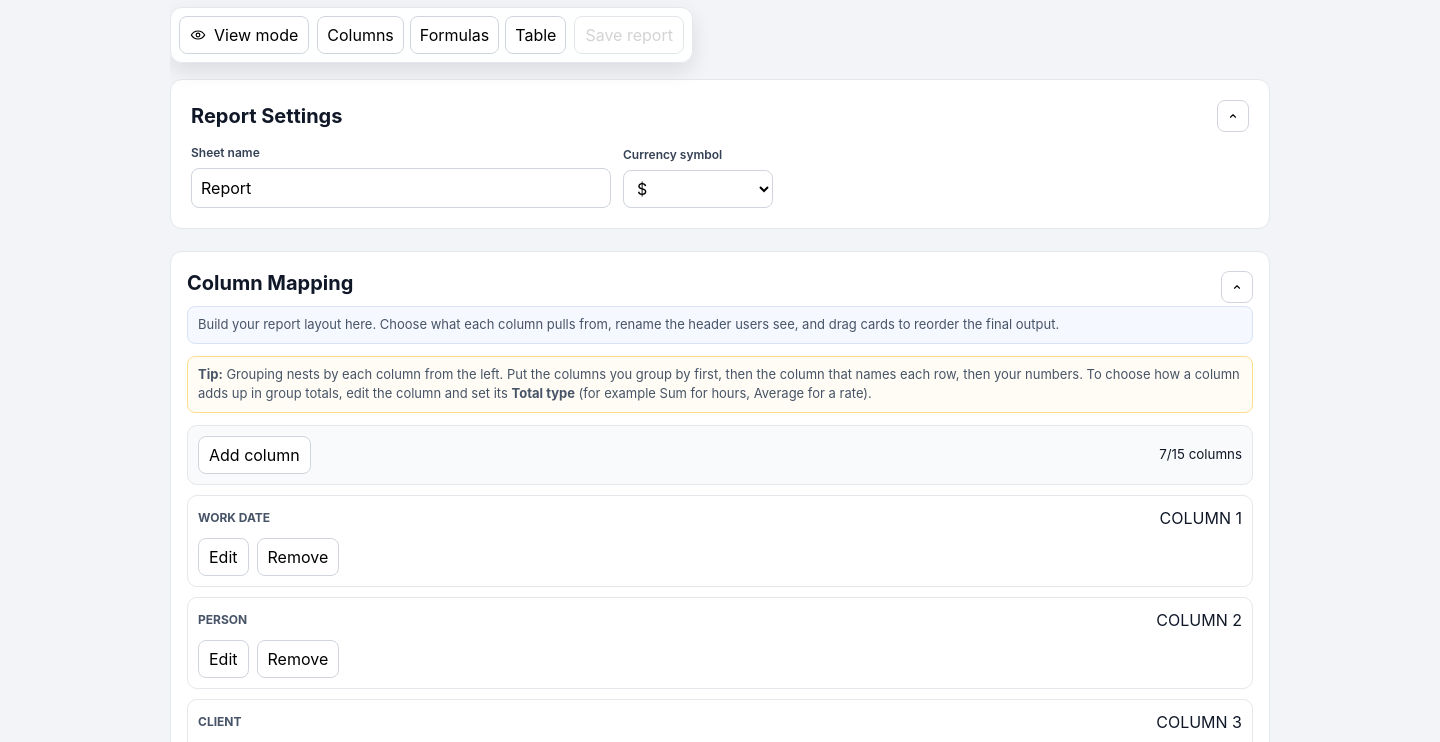
Test: ReportBuilderApp › collapses and expands settings, columns, and formulas in edit mode
Click the button named "Collapse settings".
click(1233, 116)  # box [1217,100,1249,132]
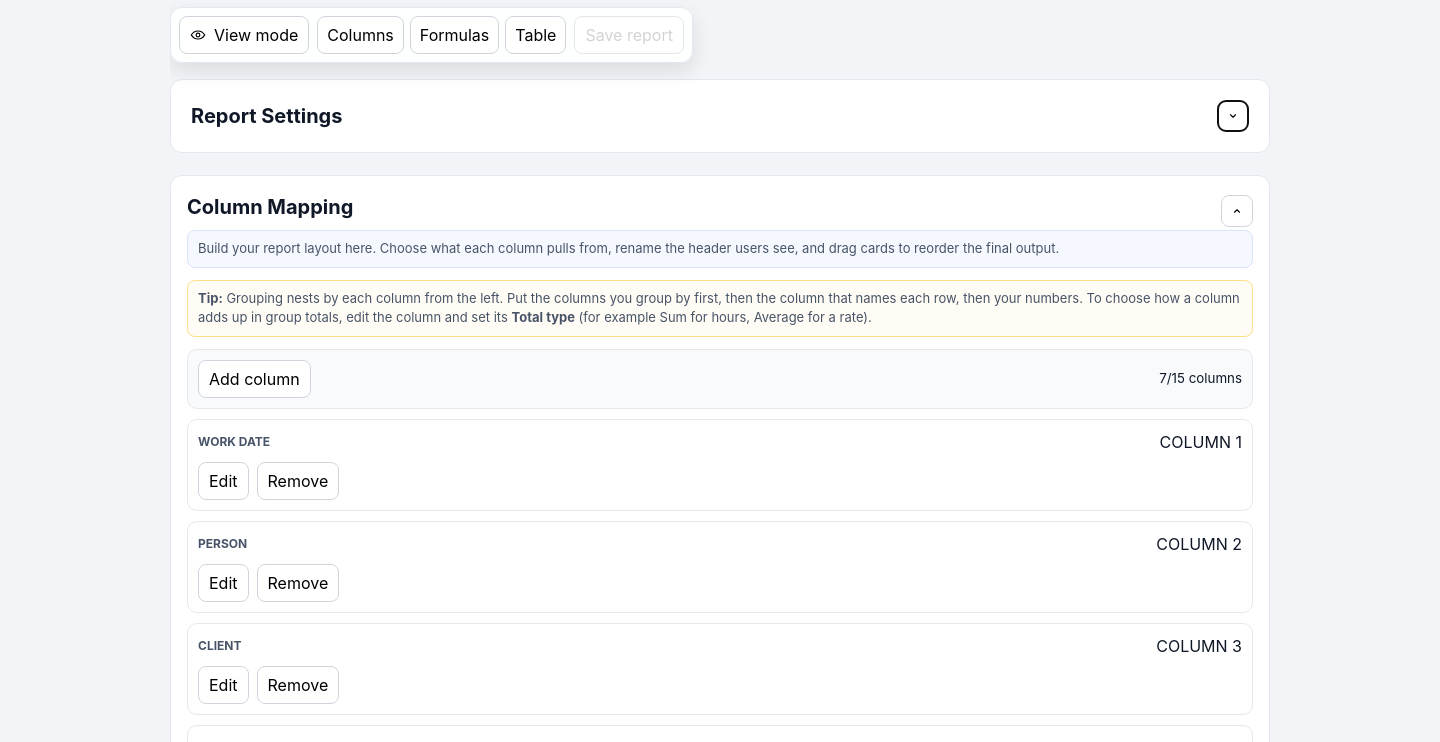
Expected: the label labelled "Sheet name" is gone
Click the button named "Expand settings".
click(1233, 116)  # box [1217,100,1249,132]
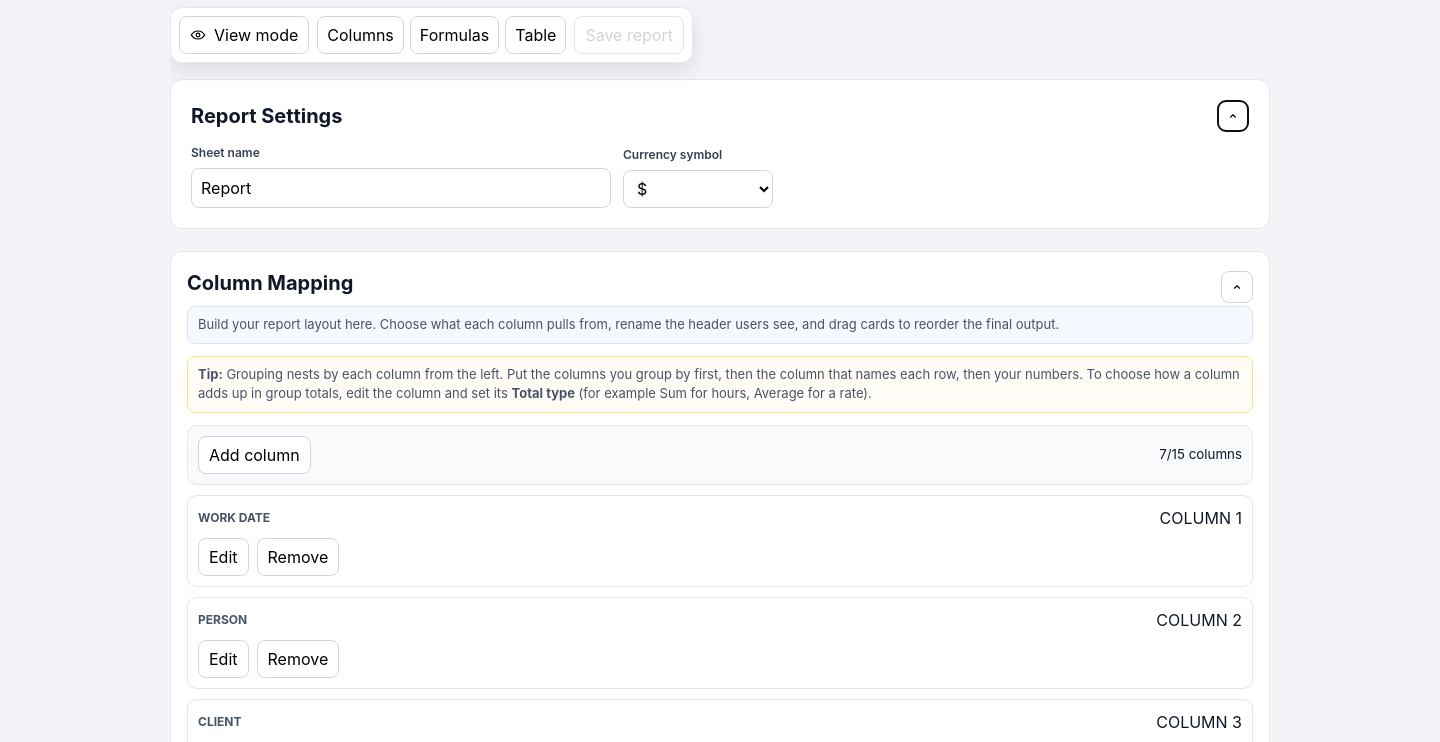
Expected: the field labelled "Sheet name" is shown, [191,168,611,208]
Click the button named "Collapse columns".
click(1237, 287)  # box [1221,271,1253,303]
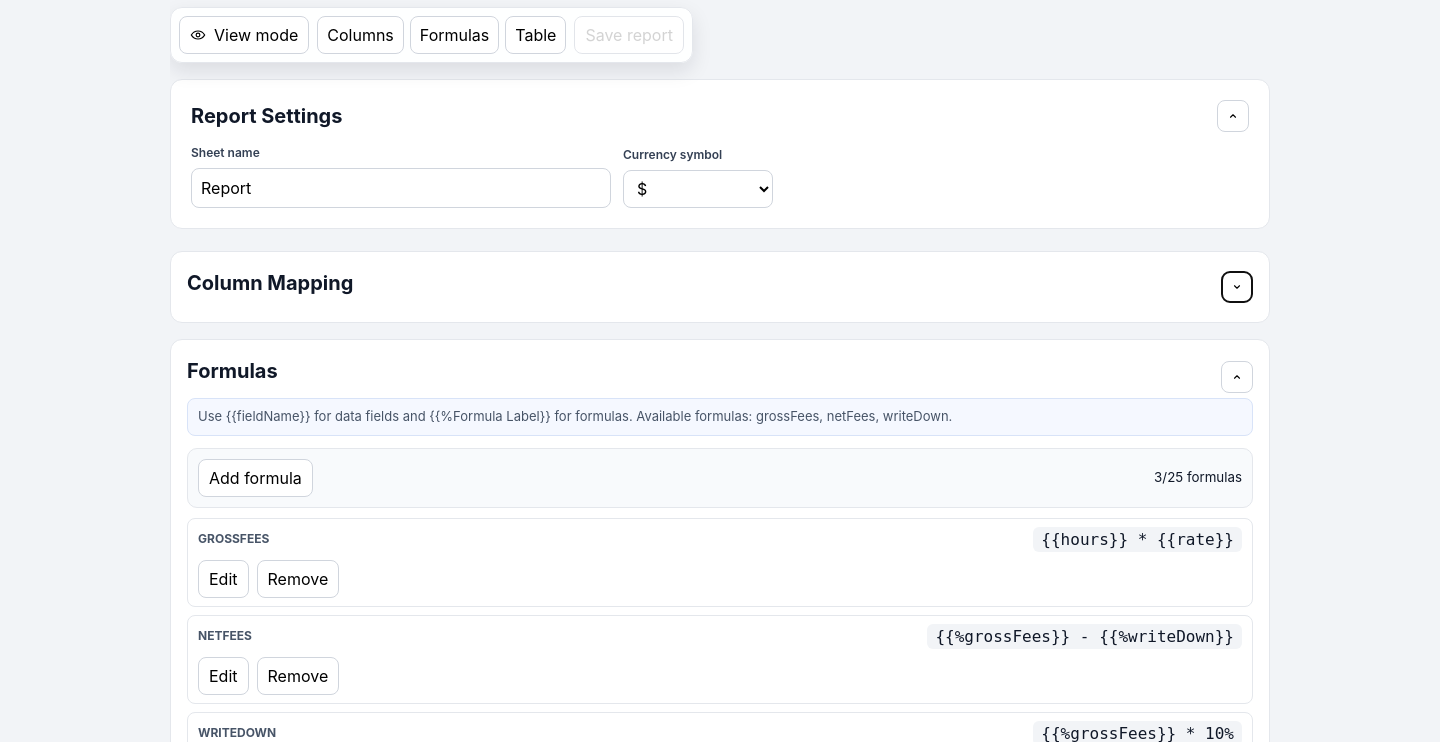
Expected: the button "Add column" is gone
Click the button named "Expand columns".
click(1237, 287)  # box [1221,271,1253,303]
(page scrolled)
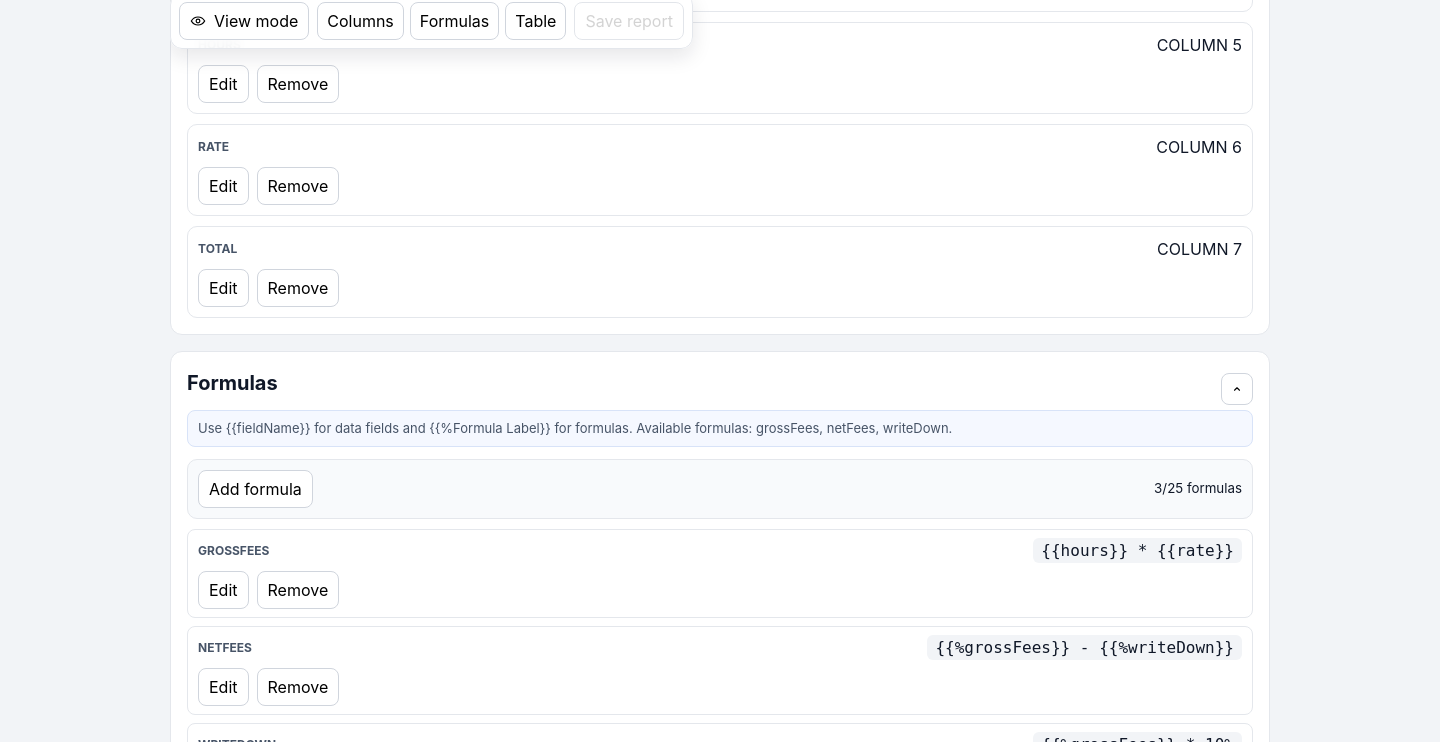
Click the button named "Collapse formulas".
click(1237, 388)  # box [1221,372,1253,404]
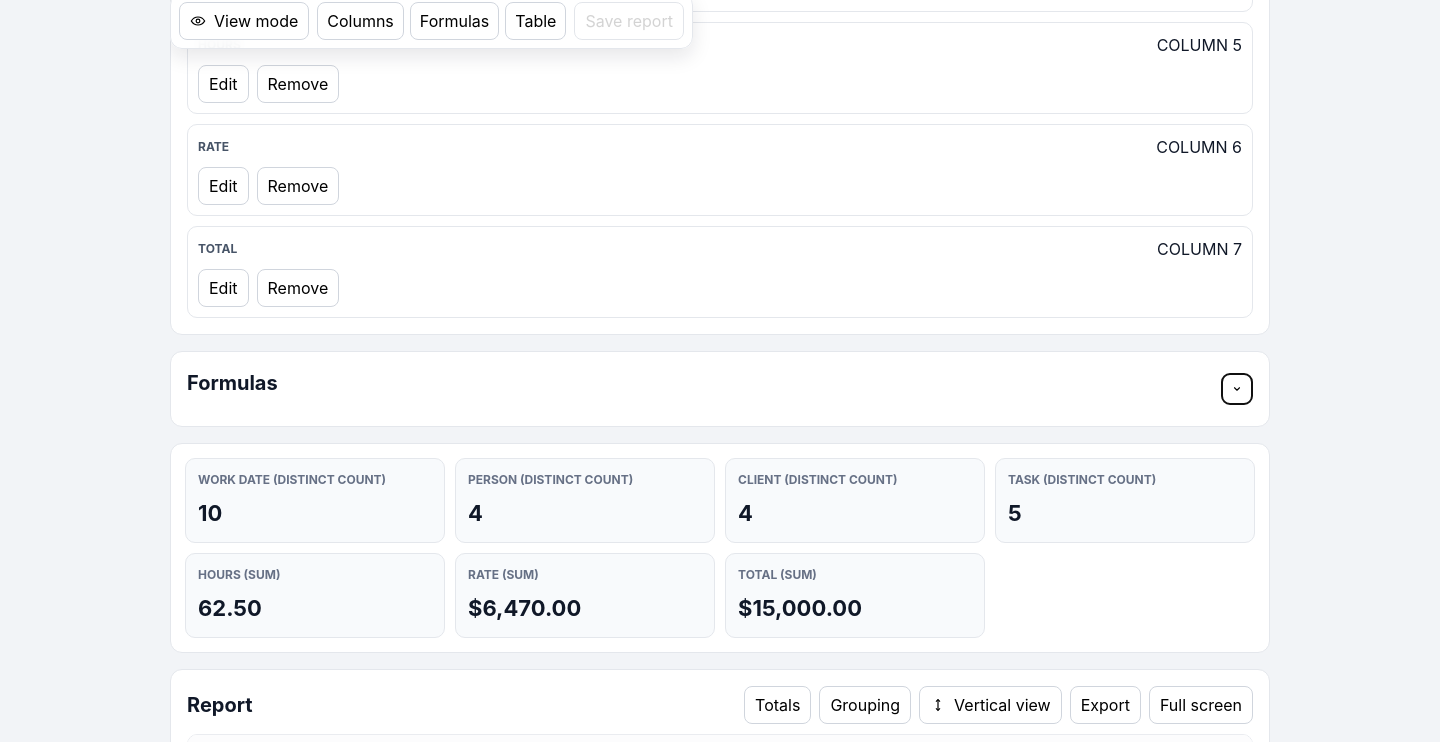
Expected: the button "Add formula" is gone
Click the button named "Expand formulas".
click(1237, 388)  # box [1221,372,1253,404]
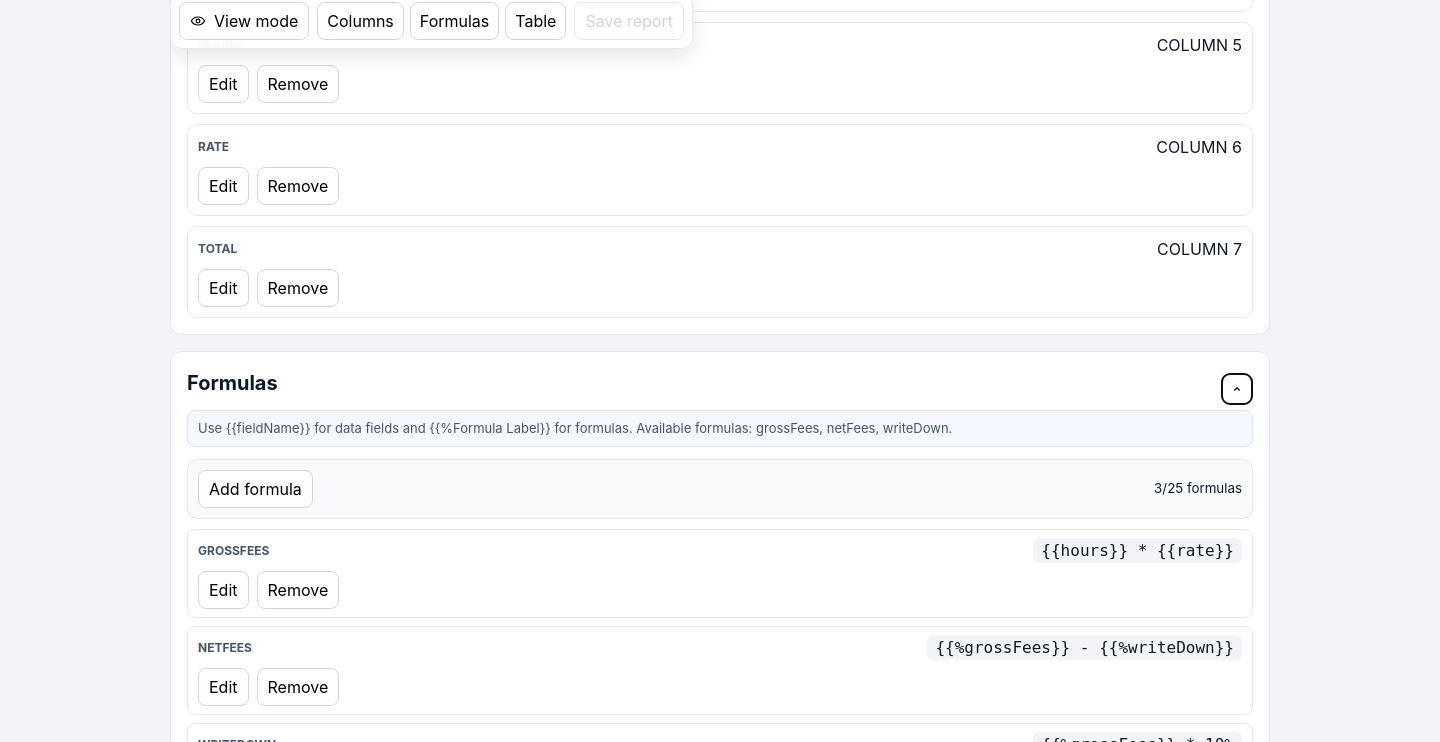
Expected: the button "Add formula" is shown, [198,470,313,508]
